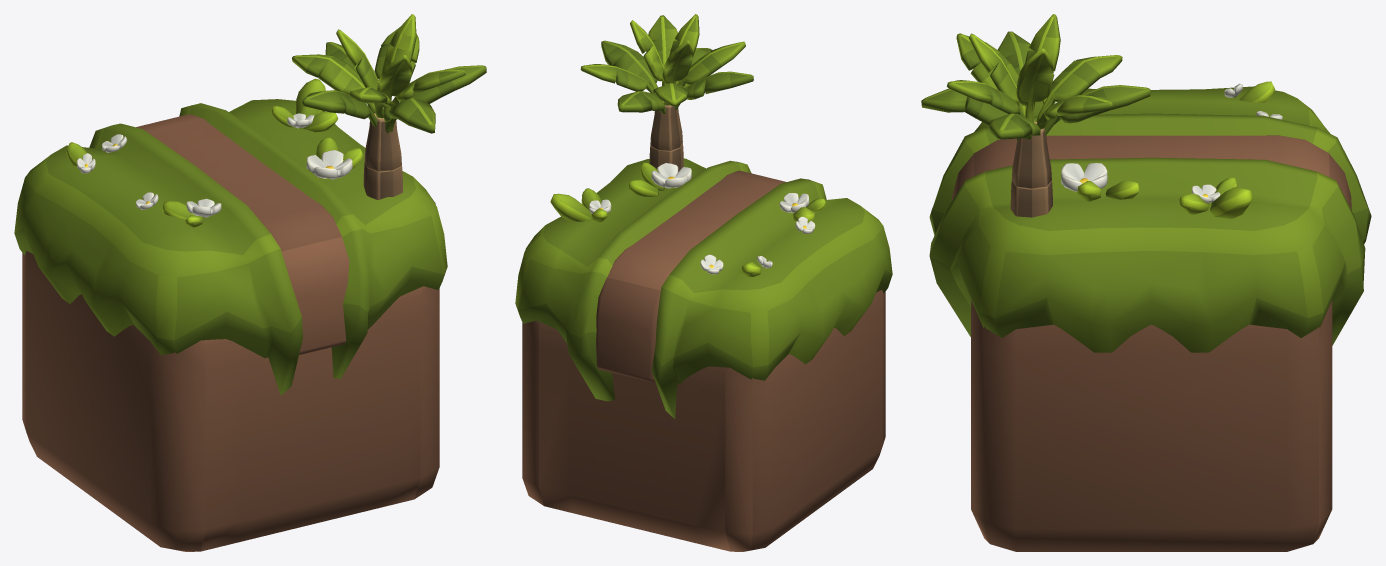
Rendered from Spring1.fbx.
3 renders of one model, left to right at view 1: azimuth 30°, elevation 25°; view 2: azimuth 150°, elevation 25°; view 3: azimuth 270°, elevation 25°, orthographic. The views are drawn at different scales.
Parts seen in each view (by area): view 1: Spring1, Spring_Cube1.001, Cell.002, Tree_Spring, Spring_Envinroment; view 2: Spring1, Spring_Cube1.001, Cell.002, Tree_Spring, Spring_Envinroment; view 3: Spring1, Spring_Cube1.001, Tree_Spring, Cell.002, Spring_Envinroment.
Part boxes in pixels (left/top/right/bottom): Spring1: left=22, top=251, right=439, bottom=551; Spring_Cube1.001: left=14, top=99, right=447, bottom=395; Cell.002: left=136, top=114, right=349, bottom=354; Tree_Spring: left=292, top=14, right=486, bottom=199; Spring_Envinroment: left=66, top=78, right=363, bottom=227; Spring1: left=522, top=290, right=885, bottom=551; Spring_Cube1.001: left=515, top=158, right=892, bottom=418; Cell.002: left=596, top=170, right=786, bottom=381; Tree_Spring: left=580, top=14, right=753, bottom=171; Spring_Envinroment: left=550, top=162, right=825, bottom=276; Spring1: left=971, top=300, right=1332, bottom=551; Spring_Cube1.001: left=929, top=86, right=1371, bottom=352; Tree_Spring: left=921, top=14, right=1150, bottom=217; Cell.002: left=952, top=135, right=1351, bottom=210; Spring_Envinroment: left=1042, top=81, right=1282, bottom=218.
Size of the model in its own units: 123 by 157 by 125.
